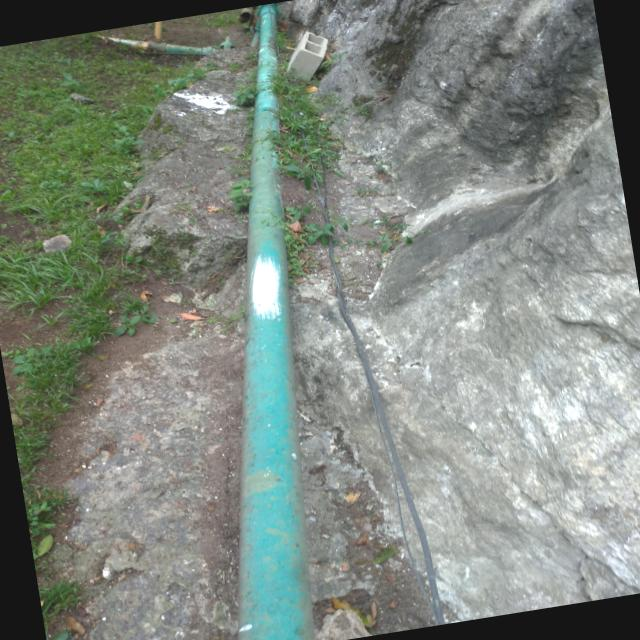gas: (237, 4, 313, 640), (95, 35, 226, 59)
